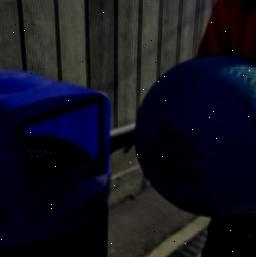algae: (134, 52, 256, 212)
